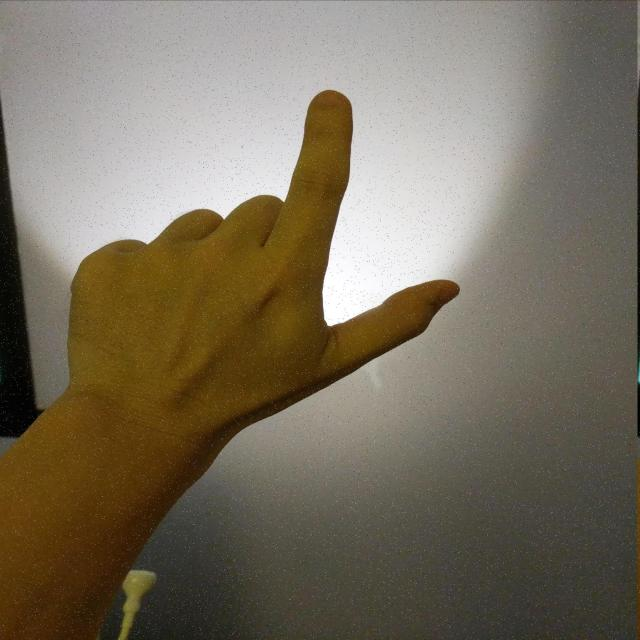L: (58, 83, 470, 440)
